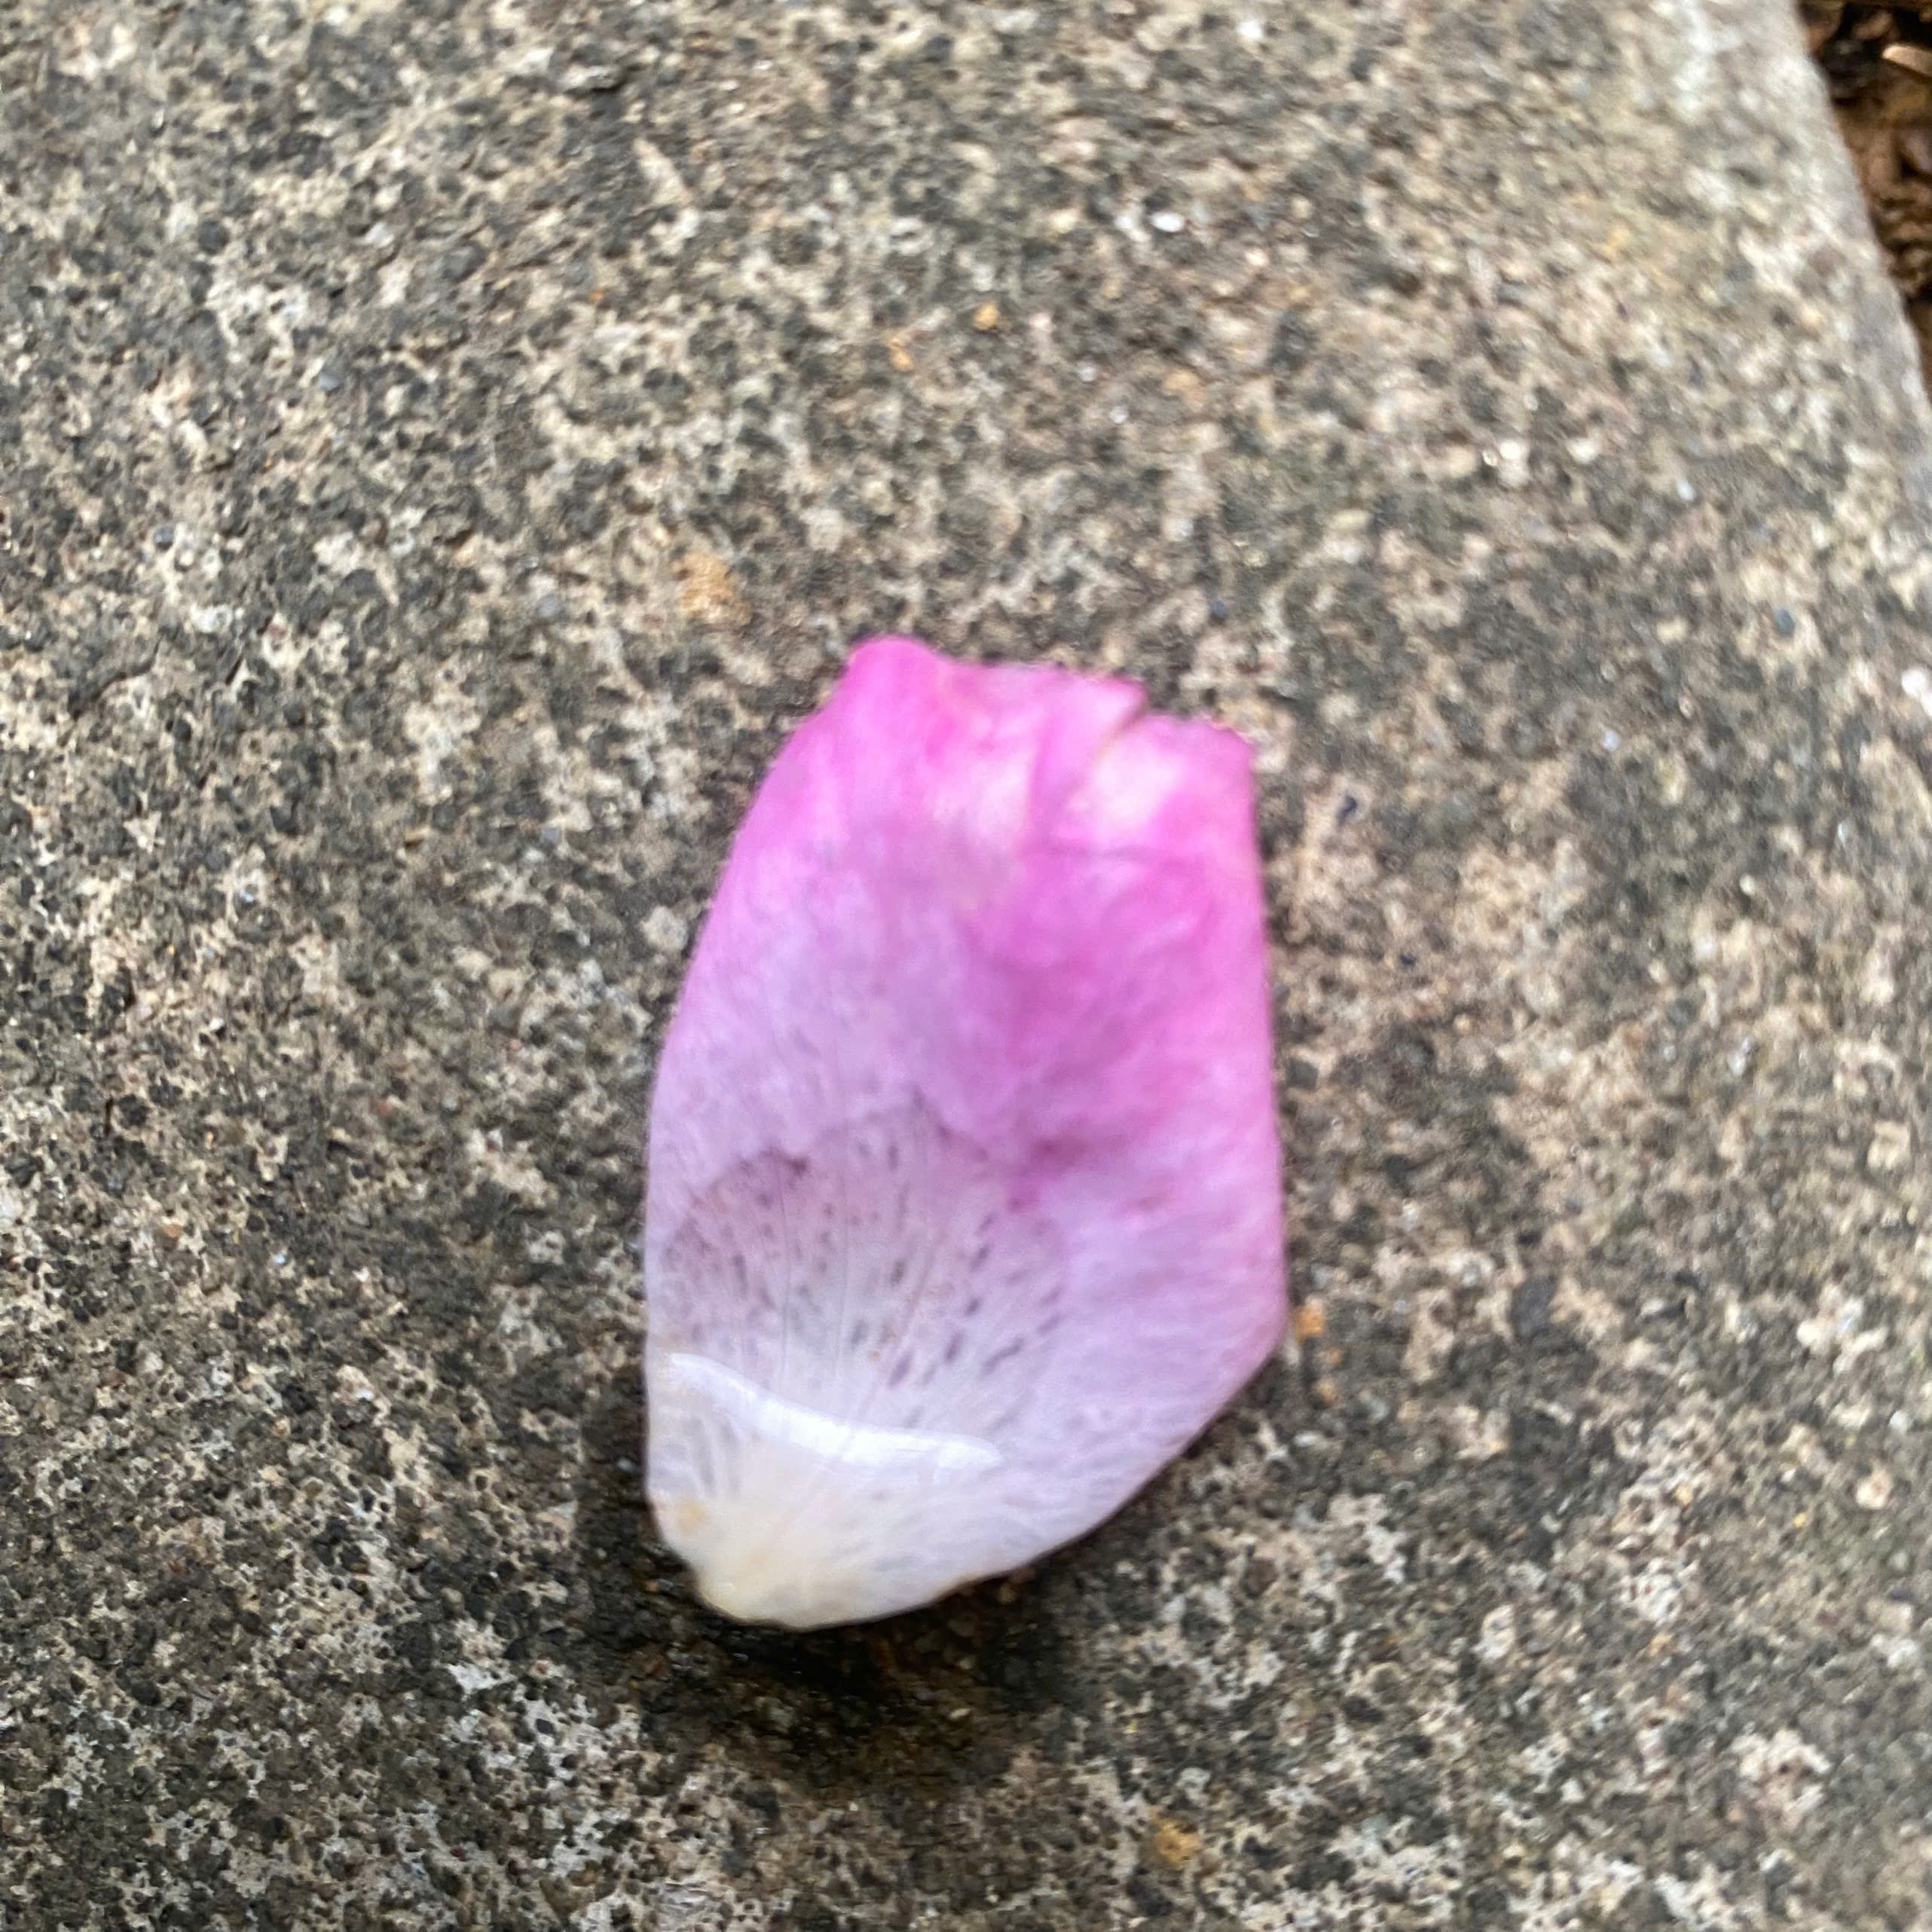hoa_hong_phan: (610, 594, 1371, 1686)
